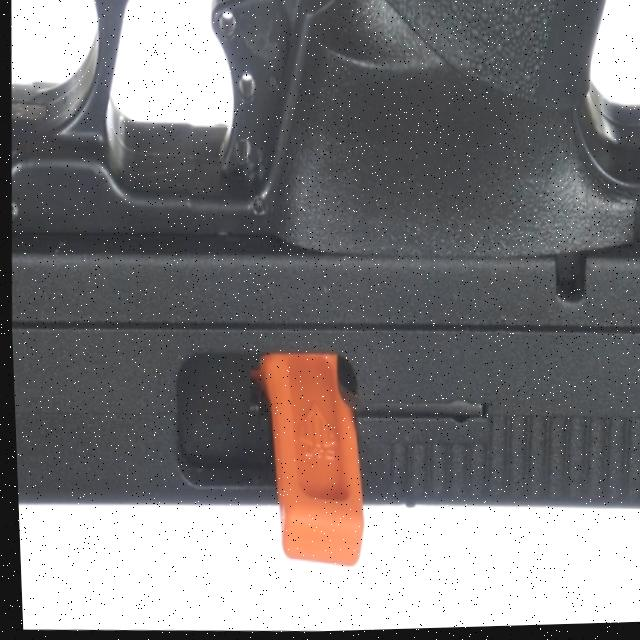pistol: (0, 0, 640, 595)
